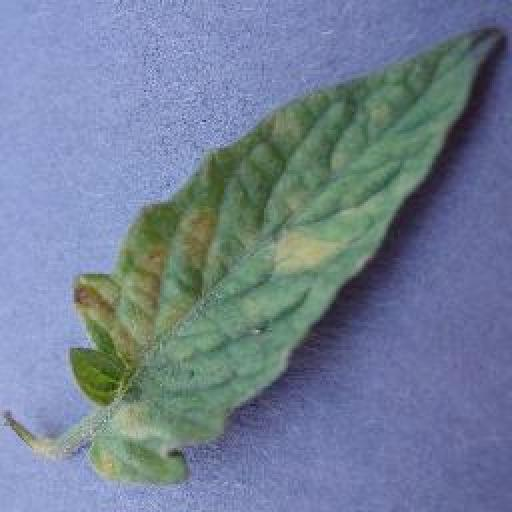disease_tomato: (70, 28, 503, 486)
